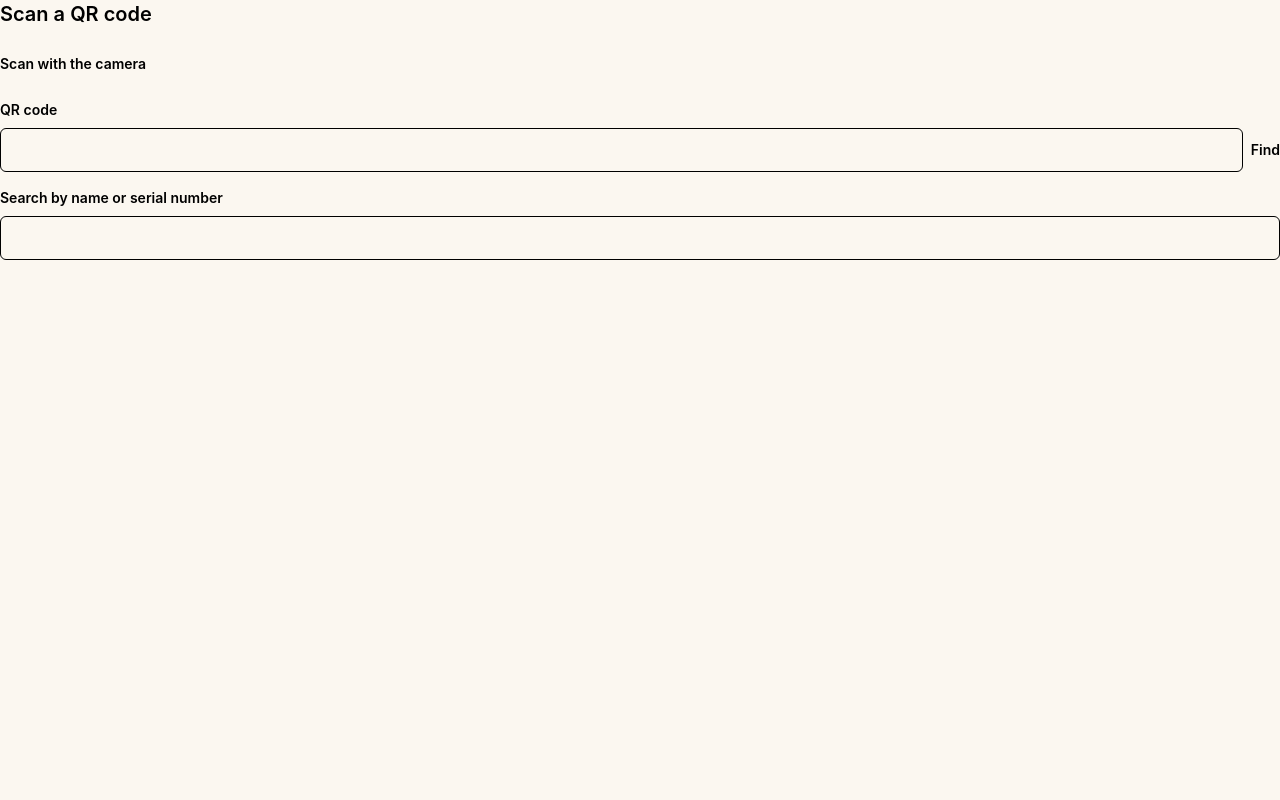
Test: Register, Scan, Device, Outbox, Sign › scan: with a camera the scanner opens and closes
Step 1. Click the button "Scan with the camera" → {"x": 73, "y": 64}, box [0,44,146,84]
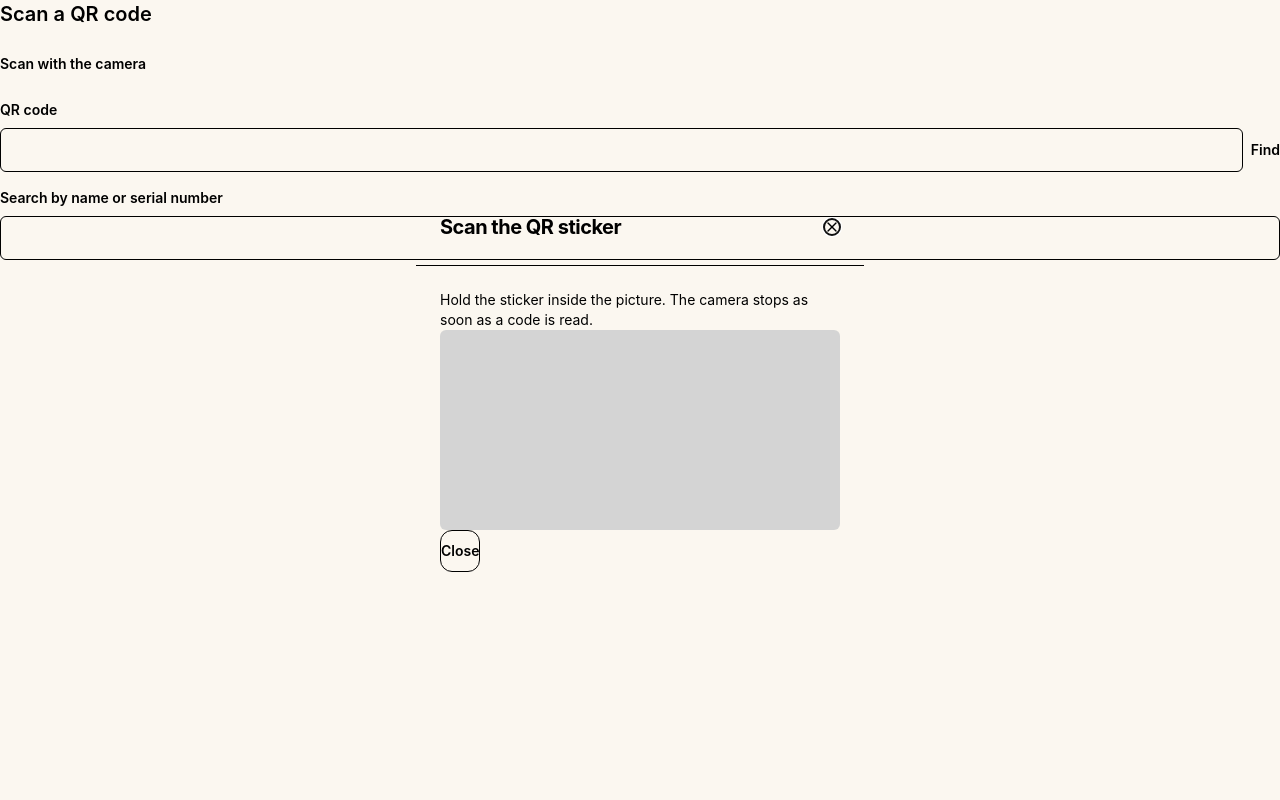
Result: the dialog is shown at [416,188,864,596]
Step 2. Click the button "Close" → {"x": 460, "y": 550}, box [440,530,480,572]
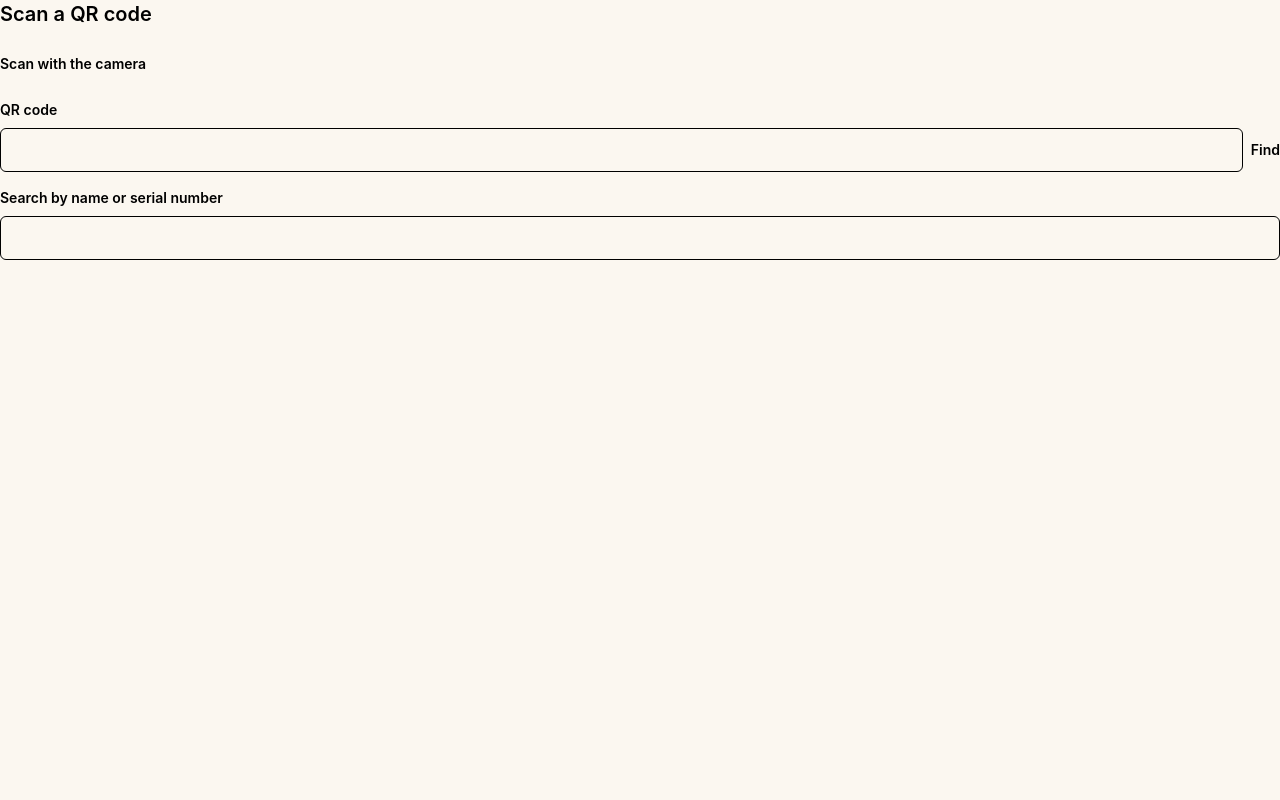
Result: the dialog is gone
Step 3. Type "UNKNOWN" into the field labelled "QR code" → {"x": 621, "y": 150}, box [0,128,1243,172]
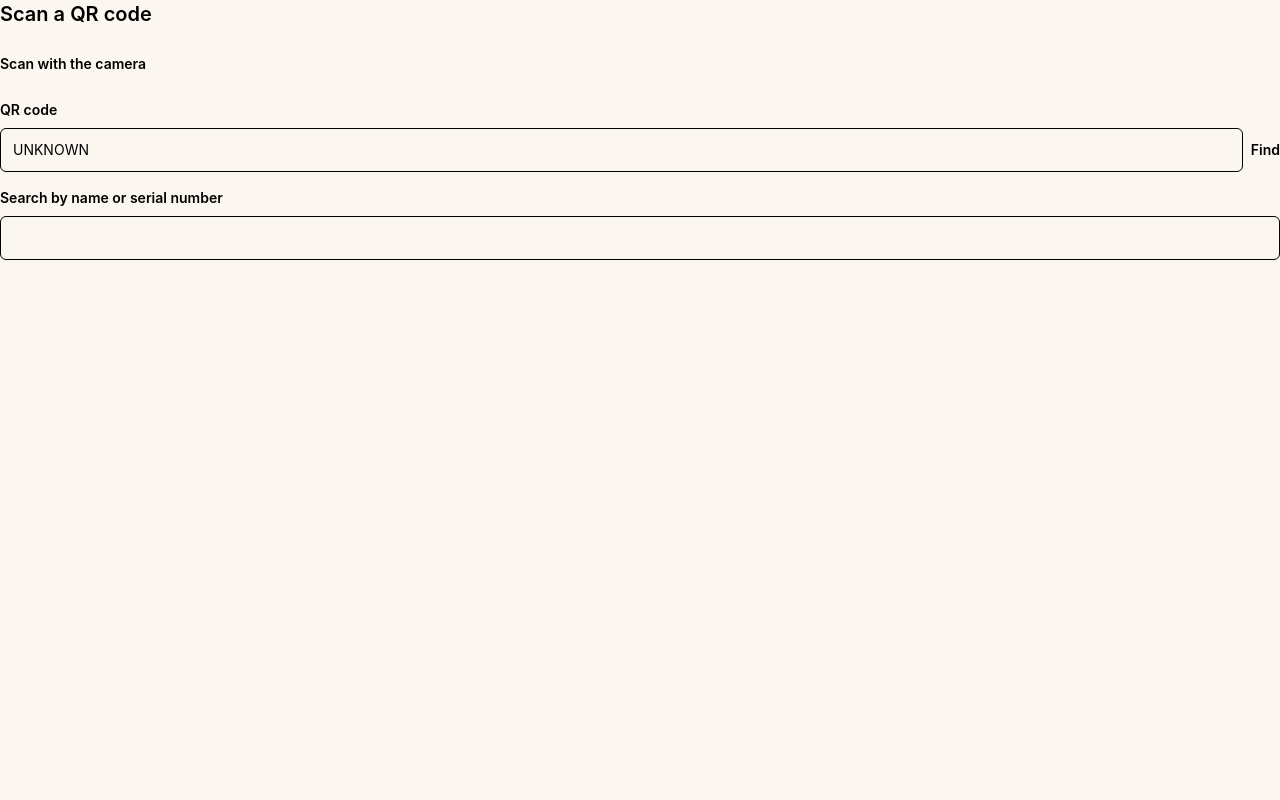
Step 4. Click the button "Find" → {"x": 1265, "y": 150}, box [1251,128,1279,172]
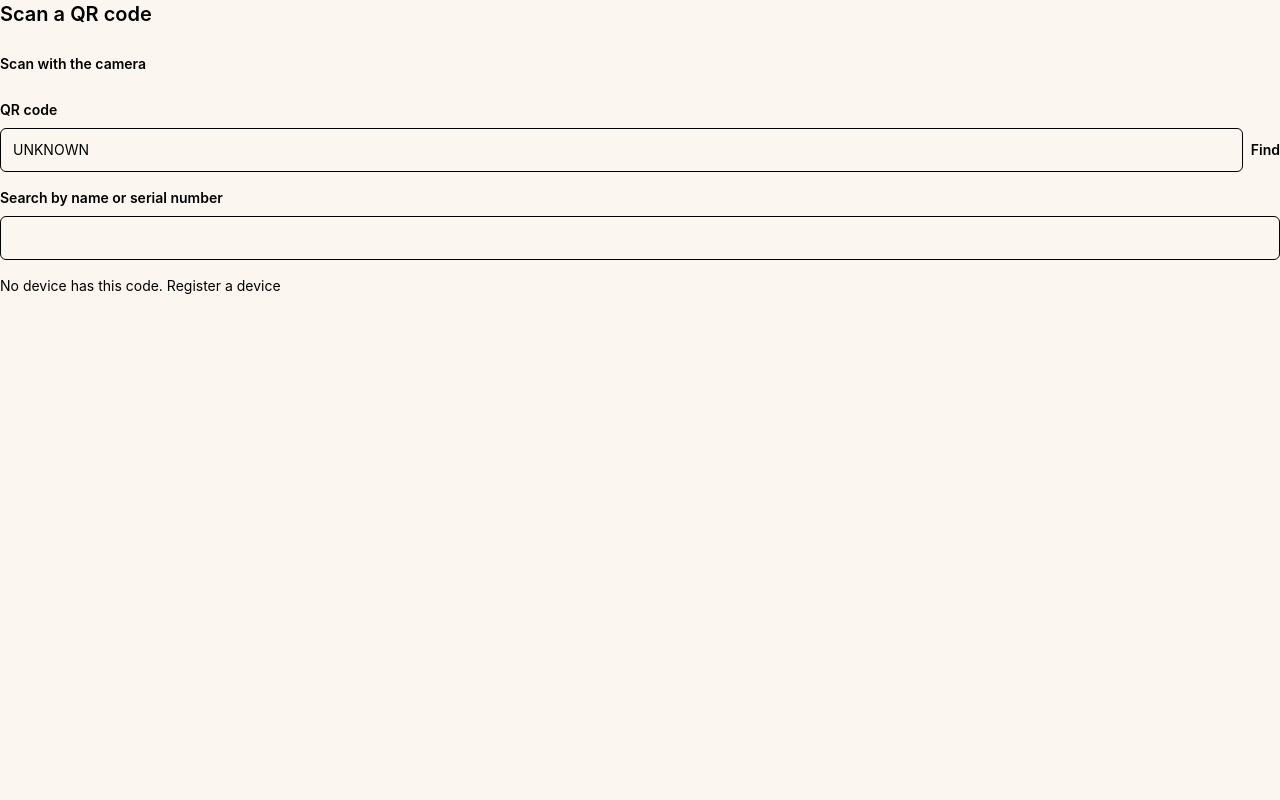
Result: the text "No device has this code." is shown at [0,277,163,294]
